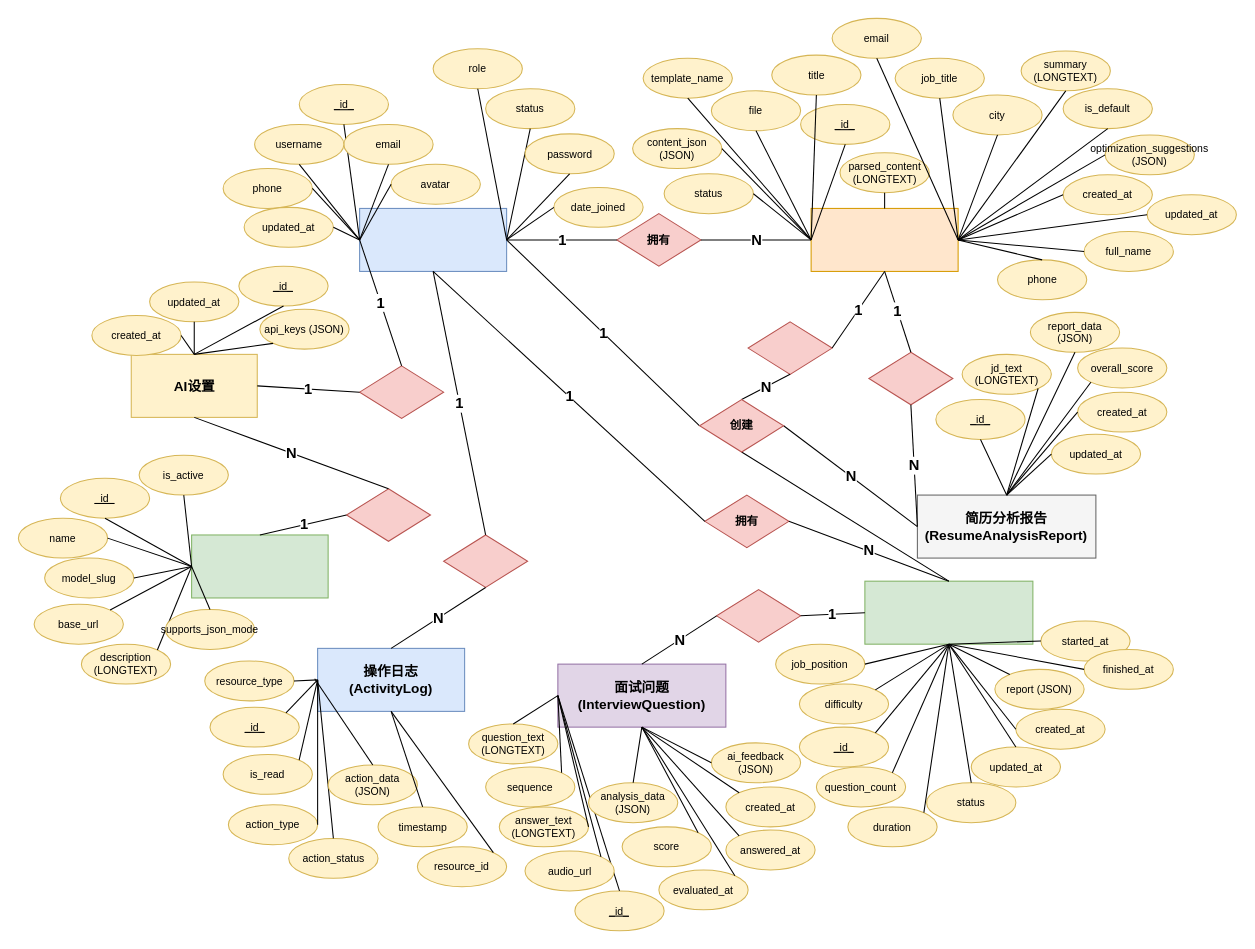
The diagram is 1255 pixels wide and 949 high, and some of its shapes have lost their labels. The shapes that lost their labels are listed below. From the top down, each one's box as (x1, y1, x2, y2) in pixels, then its label:
(359, 207, 507, 271): 用户 (User)
(810, 207, 958, 271): 简历 (Resume)
(747, 321, 832, 374): 关联
(359, 365, 444, 418): 配置
(868, 351, 953, 405): 诊断
(345, 488, 430, 541): 选用
(191, 534, 328, 598): AI模型 (AIModel)
(443, 534, 528, 587): 产生
(716, 589, 801, 642): 包含
(864, 580, 1033, 644): 面试会话 (InterviewSession)
